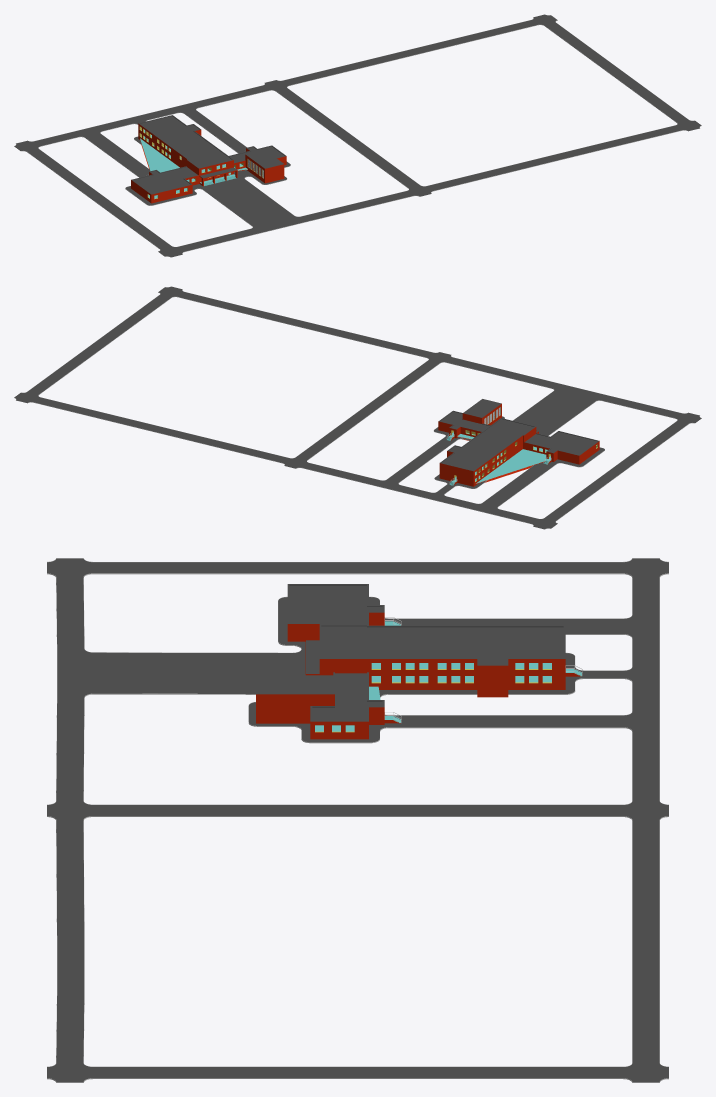
Rendered from building.fbx.
3 renders of one model, top to bottom at view 1: azimuth 30°, elevation 25°; view 2: azimuth 150°, elevation 25°; view 3: azimuth 270°, elevation 25°, orthographic. The views are drawn at different scales.
Visible parts, largest first — view 1: ground, ground_1, ceiling_2, b1, ceiling_1, b2, wall_1, floor_1, wall_2, wall_3, wall_0, ceiling_3; view 2: ground, ground_1, ceiling_2, b1, ceiling_1, wall_1, b2, floor_1, wall_2, ceiling_3; view 3: ground, ground_1, ceiling_2, ceiling_1, b1, wall_1, wall_2, b2, ceiling_3, wall_3, floor_1, wall_0.
Boxes of the visible parts, x1,y1,x2,y2 form: ground: [14, 80, 432, 257]; ground_1: [283, 14, 701, 190]; ceiling_2: [138, 115, 233, 169]; b1: [15, 80, 433, 257]; ceiling_1: [131, 129, 286, 195]; b2: [283, 14, 701, 191]; wall_1: [131, 131, 286, 201]; floor_1: [131, 136, 286, 201]; wall_2: [138, 124, 233, 175]; wall_3: [245, 155, 284, 181]; wall_0: [131, 137, 286, 203]; ceiling_3: [245, 149, 284, 168]; ground: [283, 352, 701, 529]; ground_1: [14, 286, 432, 462]; ceiling_2: [439, 418, 536, 471]; b1: [282, 352, 700, 529]; ceiling_1: [438, 410, 599, 478]; wall_1: [438, 422, 599, 484]; b2: [14, 286, 432, 463]; floor_1: [438, 416, 599, 485]; wall_2: [439, 428, 536, 478]; ceiling_3: [463, 399, 501, 418]; ground: [47, 558, 668, 820]; ground_1: [47, 820, 668, 1082]; ceiling_2: [319, 624, 565, 667]; ceiling_1: [287, 584, 565, 722]; b1: [47, 558, 668, 819]; wall_1: [287, 614, 565, 735]; wall_2: [319, 660, 565, 679]; b2: [47, 820, 668, 1082]; ceiling_3: [256, 675, 334, 695]; wall_3: [256, 695, 334, 719]; floor_1: [256, 623, 565, 736]; wall_0: [256, 639, 565, 739].
Bounding box in the file's own units: 271 × 7.8 × 136.
